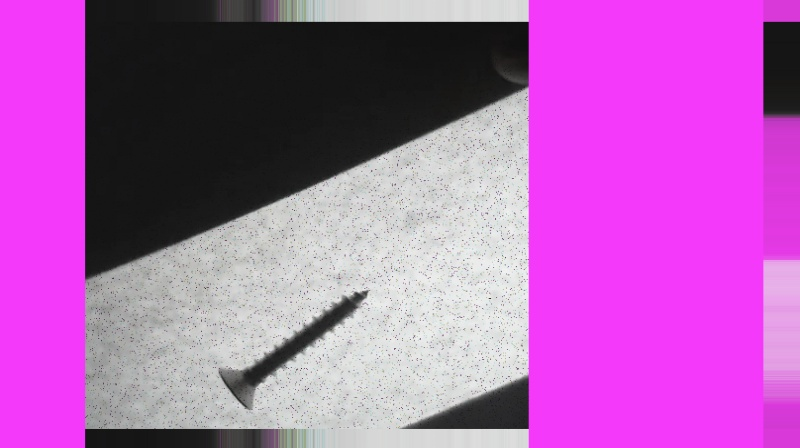S001: (215, 283, 374, 412)
